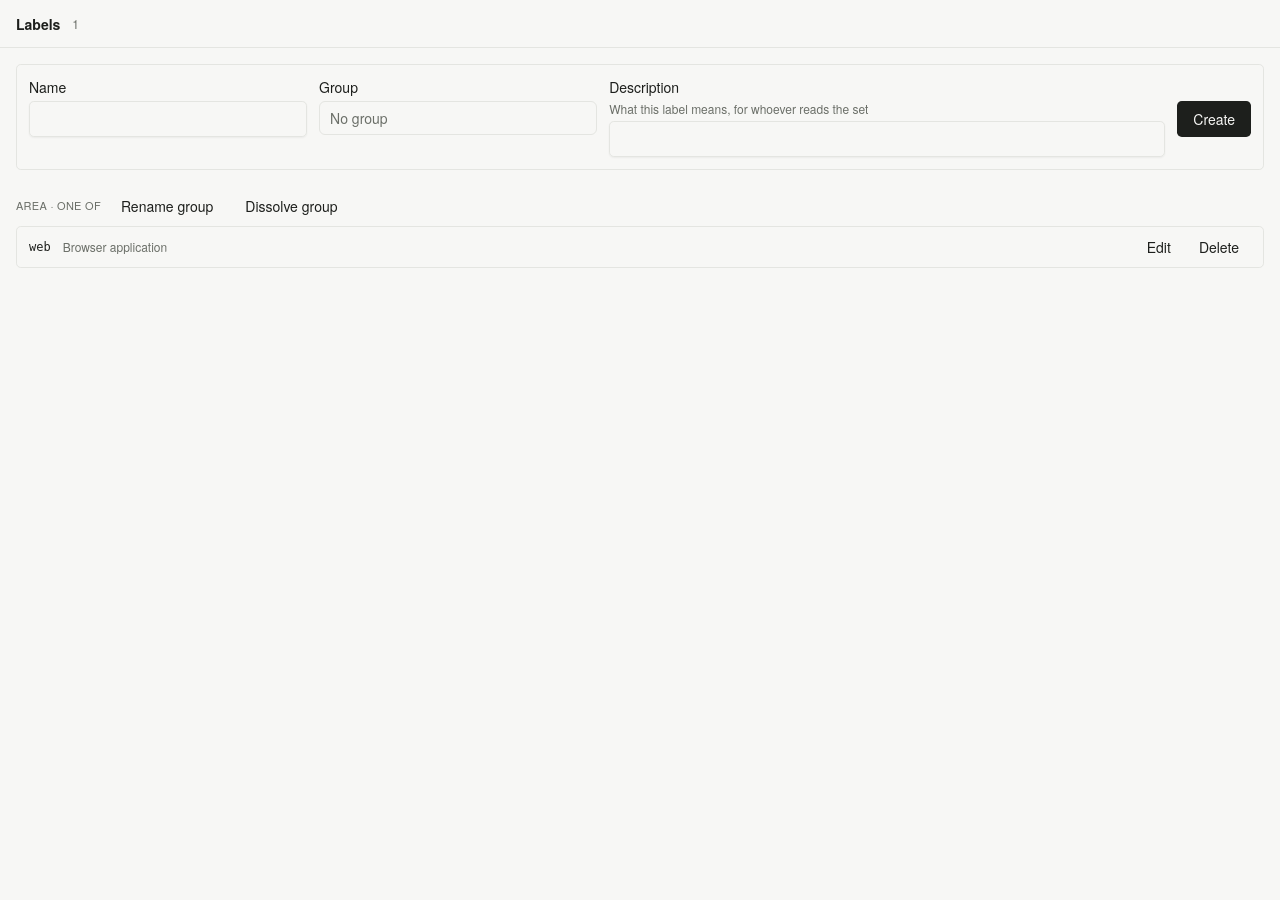
Test: does not report a delete as failed when the reload cannot reach the instance
Click the button "Delete" at {"x": 1219, "y": 247}, box x1=1187 y1=231 x2=1251 y2=263
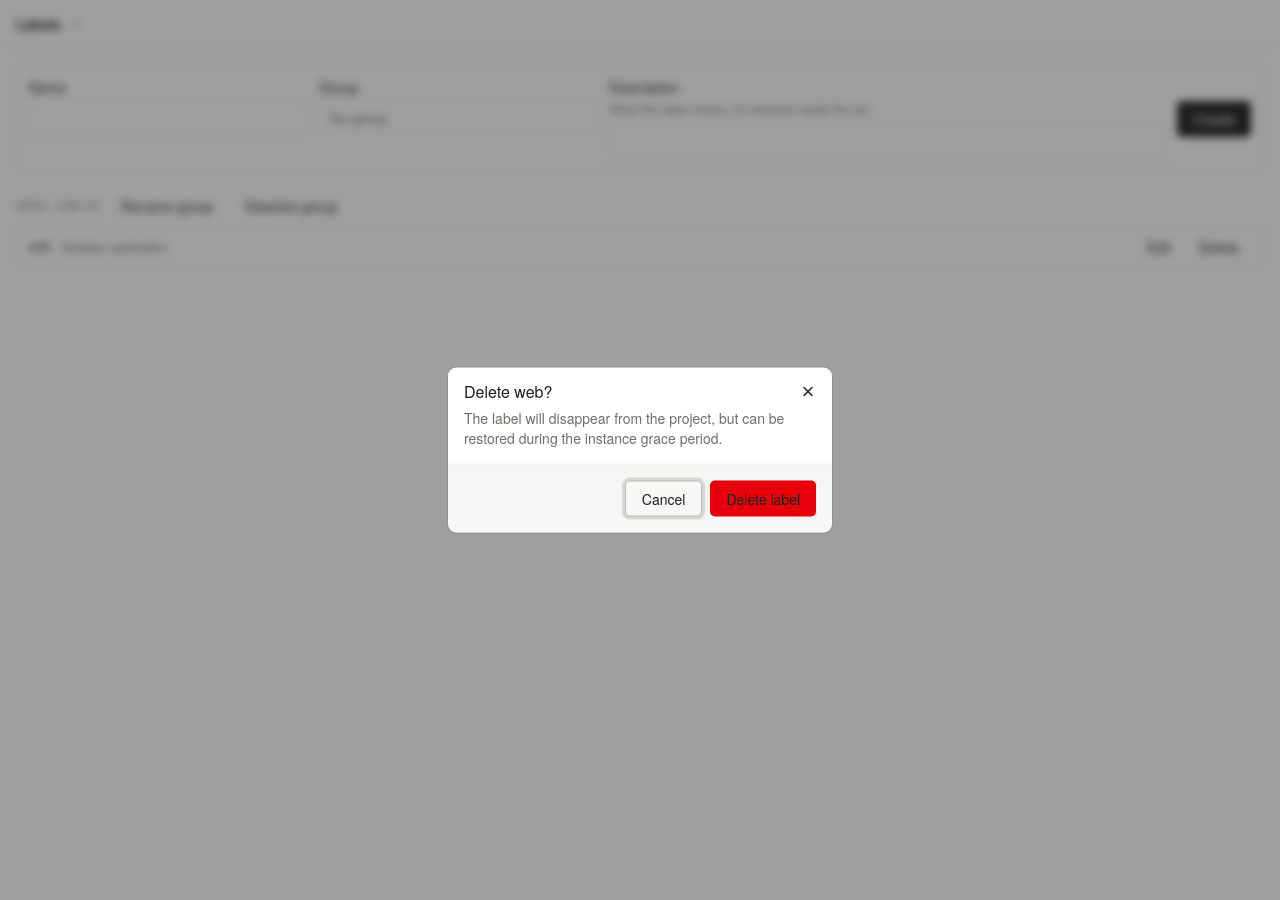
Click the button "Delete label" at {"x": 763, "y": 498}, box x1=710 y1=480 x2=816 y2=516
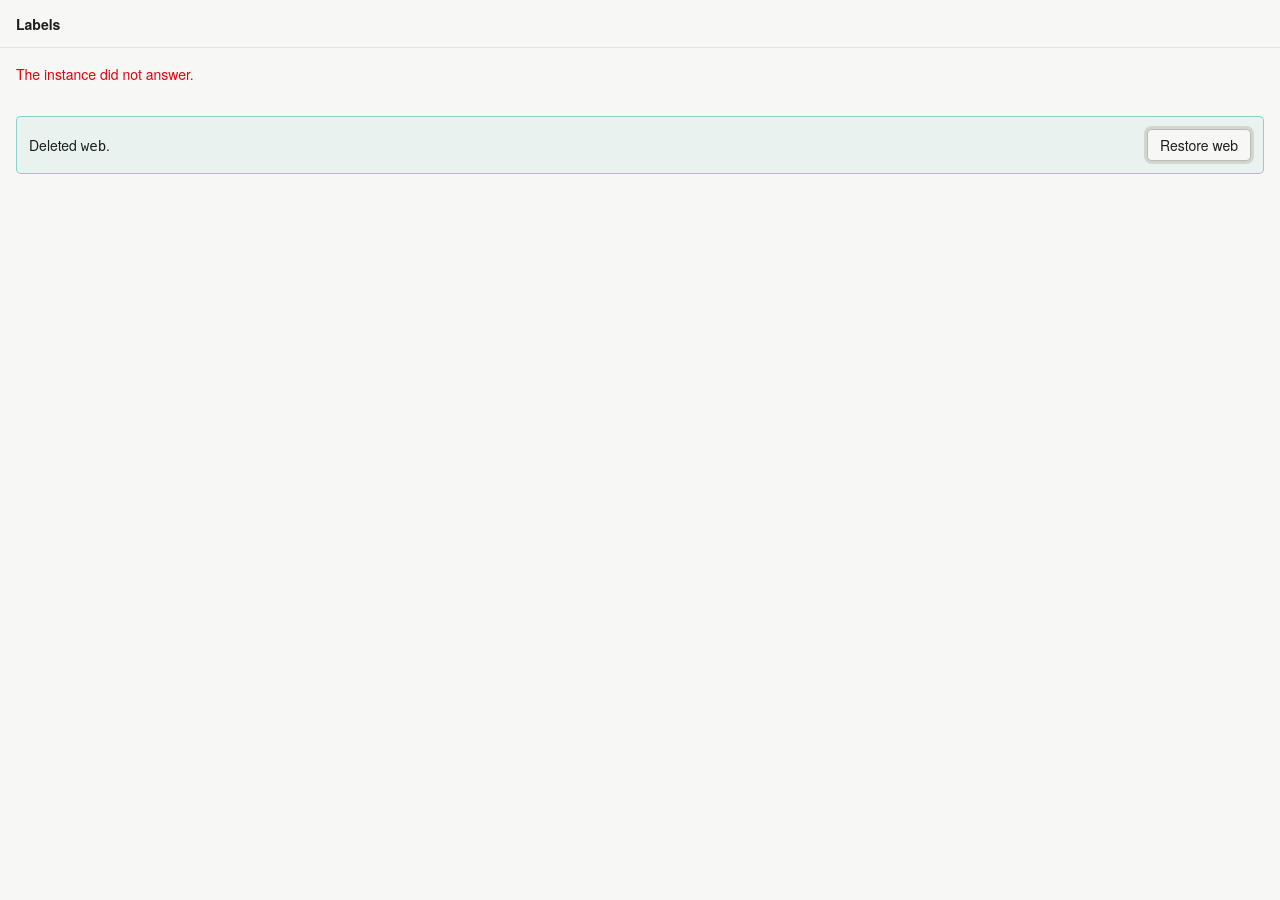
Expected: the button "Restore web" is shown, x1=1147 y1=129 x2=1251 y2=161
Expected: the dialog is gone
Expected: the text "The instance did not answer." is shown, x1=16 y1=64 x2=194 y2=84
